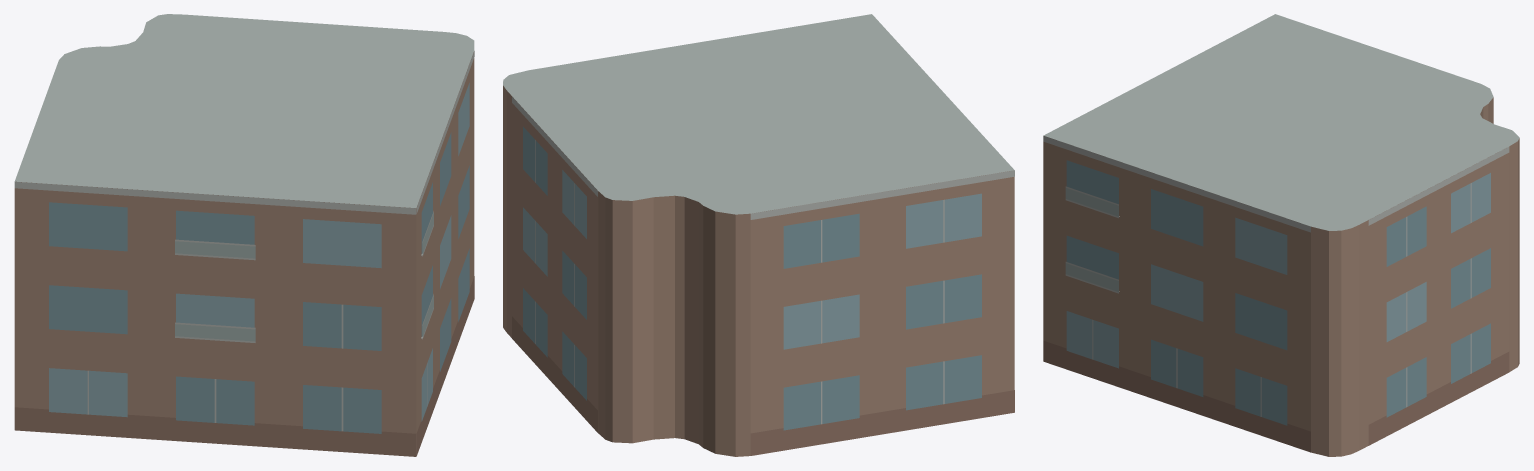
The model's file is survey-upis-33038139.glb.
The picture shows the model from 3 angles, left to right: view 1: azimuth 30°, elevation 25°; view 2: azimuth 150°, elevation 25°; view 3: azimuth 270°, elevation 25°; orthographic projection. The views are drawn at different scales.
Visible parts, largest first — view 1: survey-upis-33038139.tmp; view 2: survey-upis-33038139.tmp; view 3: survey-upis-33038139.tmp.
Boxes of the visible parts, x1,y1,x2,y2 form: survey-upis-33038139.tmp: (14, 14, 474, 456); survey-upis-33038139.tmp: (503, 14, 1014, 456); survey-upis-33038139.tmp: (1043, 14, 1519, 456).
Bounding box in the file's own units: 18.85 × 9.15 × 17.48.
